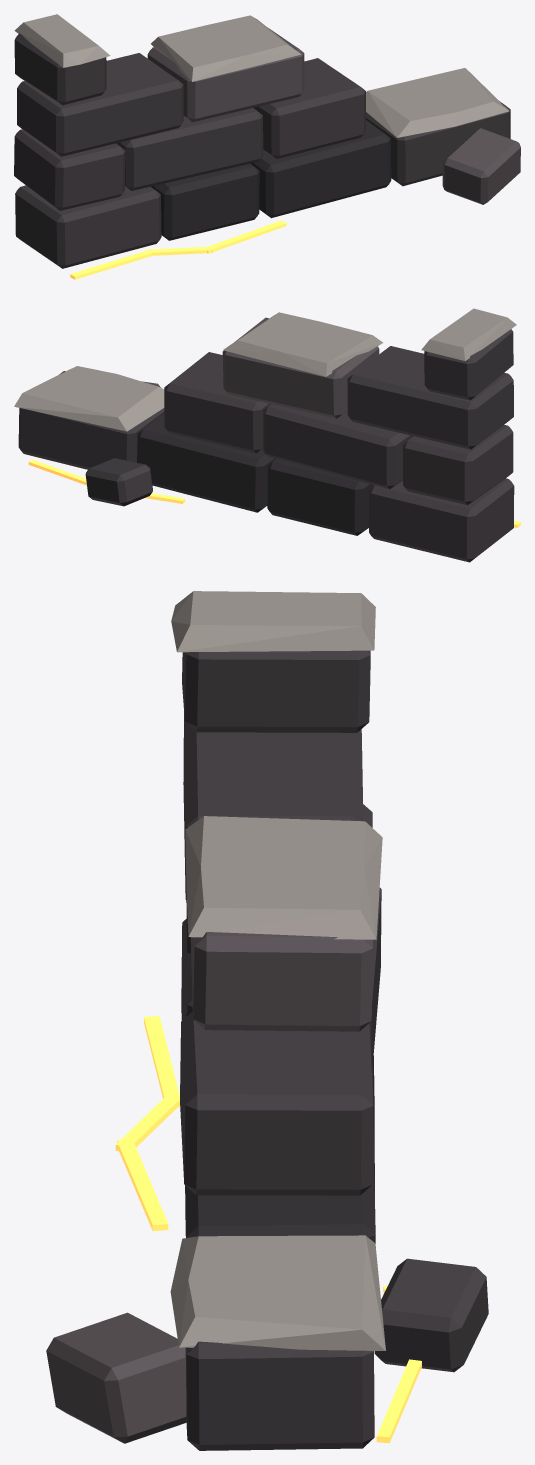
The model's file is Lava_Ruin_Wall.fbx.
The picture shows the model from 3 angles, top to bottom: view 1: azimuth 30°, elevation 25°; view 2: azimuth 150°, elevation 25°; view 3: azimuth 270°, elevation 25°; orthographic projection. The views are drawn at different scales.
Parts seen in each view (by area): view 1: Stone, Ash, Stone3, Stone2, Seams; view 2: Stone, Ash, Stone3, Stone2, Seams; view 3: Stone, Ash, Stone2, Stone3, Seams.
Part boxes in pixels (x1,y1,x2,y2): Stone: (14, 33, 510, 268); Ash: (14, 14, 509, 137); Stone3: (151, 120, 391, 240); Stone2: (147, 27, 520, 204); Seams: (70, 220, 286, 279); Stone: (18, 329, 514, 562); Ash: (14, 308, 516, 431); Stone3: (137, 414, 374, 535); Stone2: (142, 317, 379, 418); Seams: (28, 460, 520, 527); Stone: (180, 650, 488, 1450); Ash: (170, 591, 385, 1350); Stone2: (46, 932, 372, 1443); Stone3: (185, 1056, 375, 1243); Seams: (115, 1016, 421, 1443).
Size of the model in its own units: 7.96 by 3.7 by 3.34.
